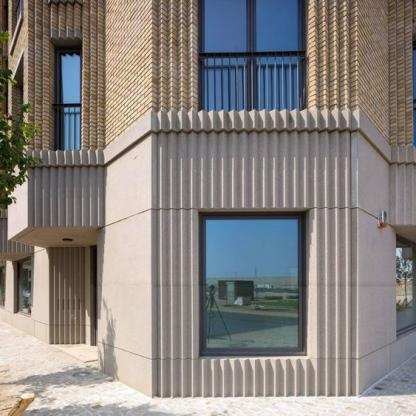Building Outline: (0, 0, 416, 398)
Dont: (0, 29, 45, 206)
Facade: (0, 0, 416, 398)
Floor: (0, 0, 416, 164)
Floor Slab: (0, 164, 416, 184)
Ground Floor: (0, 184, 416, 398)
Window: (198, 212, 307, 356), (197, 0, 306, 112), (55, 46, 82, 152)
